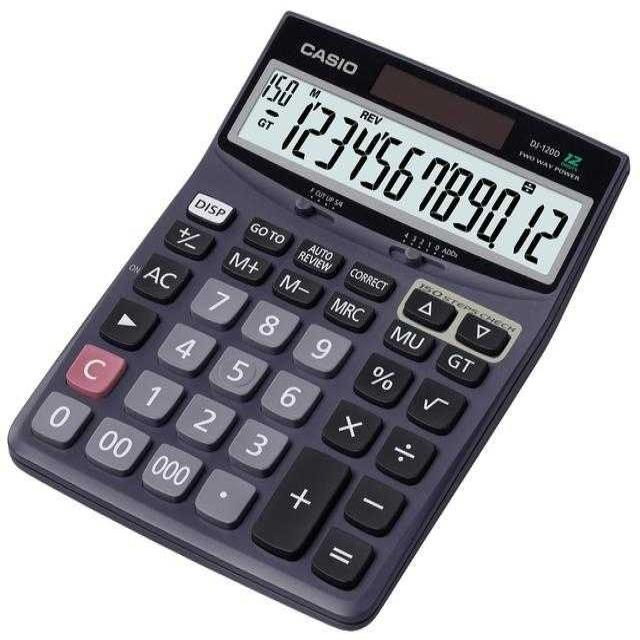Calculator: (5, 8, 631, 632)
